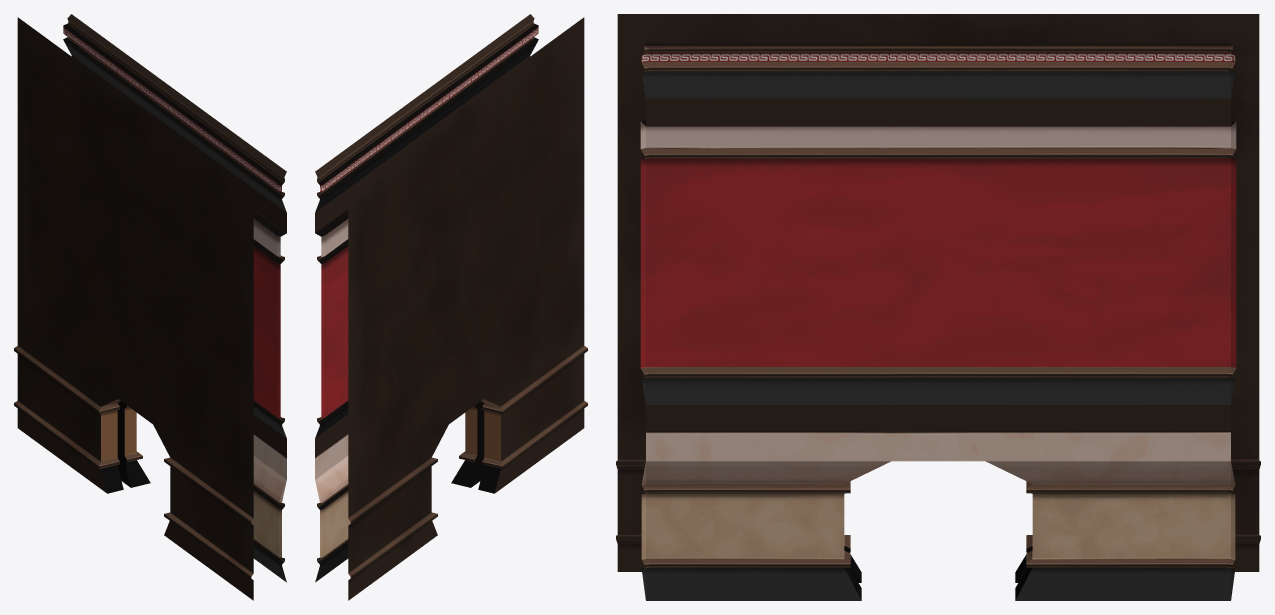
Rendered from em_wall_atrium 2.fbx.
The picture shows the model from 3 angles, left to right: view 1: azimuth 30°, elevation 25°; view 2: azimuth 150°, elevation 25°; view 3: azimuth 270°, elevation 25°; orthographic projection. The views are drawn at different scales.
Parts seen in each view (by area): view 1: em_wall_atrium; view 2: em_wall_atrium; view 3: em_wall_atrium.
Part boxes in pixels (bbox=[...]): em_wall_atrium: bbox=[14, 14, 286, 600]; em_wall_atrium: bbox=[315, 14, 587, 600]; em_wall_atrium: bbox=[616, 14, 1260, 600].
Size of the model in its own units: 242 by 2000 by 2094.
